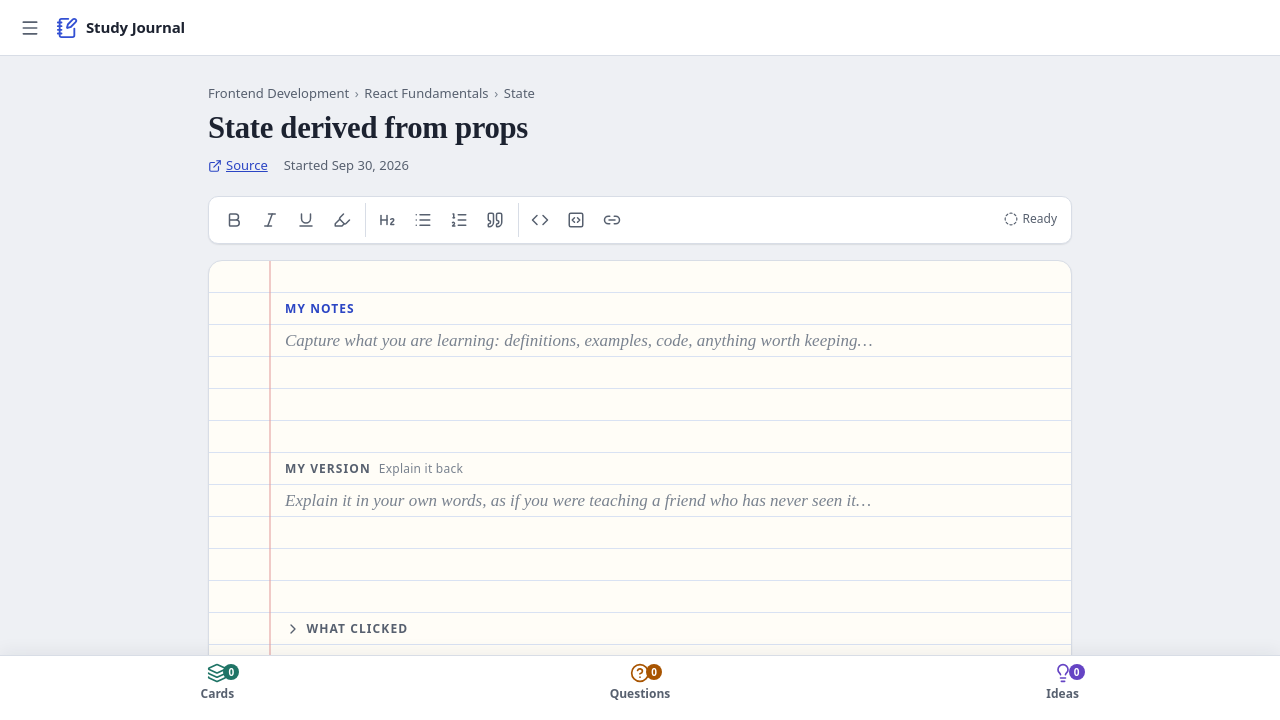
Test: JournalPage › moves study context behind a utility bar and sheet on a phone
Expected: the heading "State derived from props" is shown, [208,110,535,146]
Expected: the button named "Open course navigation" is shown, [10,8,50,48]
Click the button "Questions 0": (640, 688) [431,662,849,714]
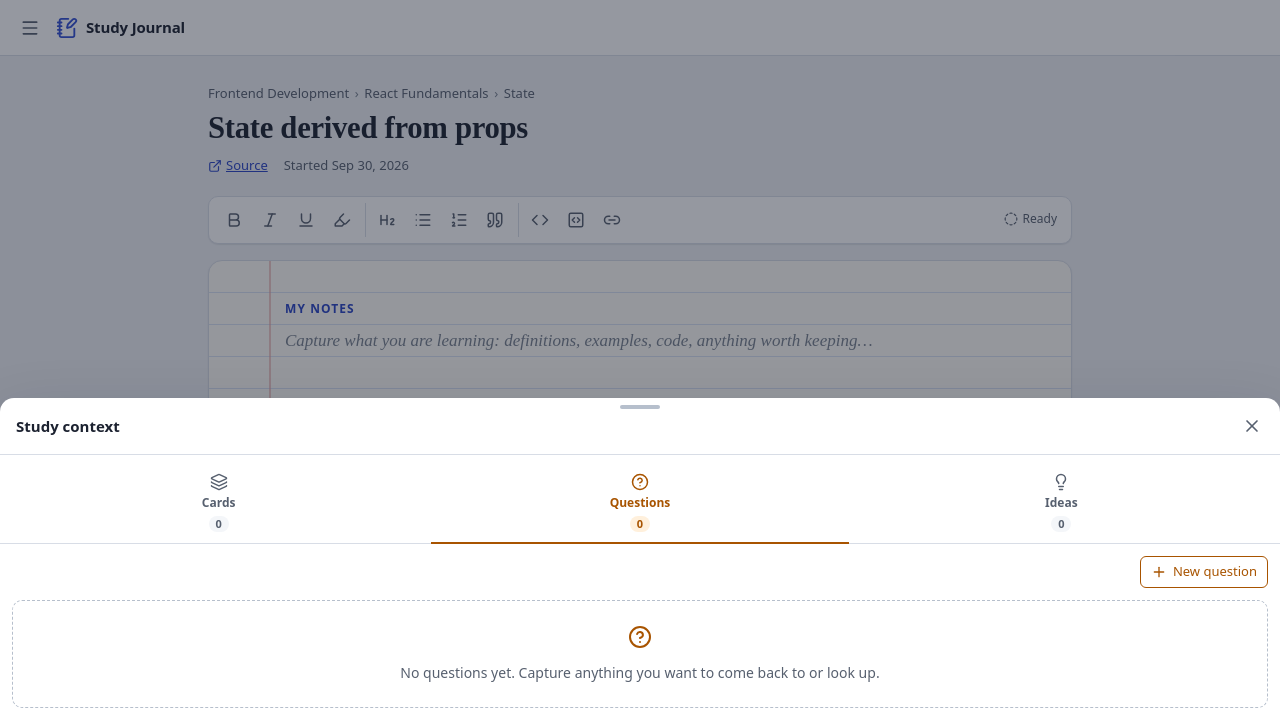
Click the button "New question": (1204, 572) [1140,556,1268,588]
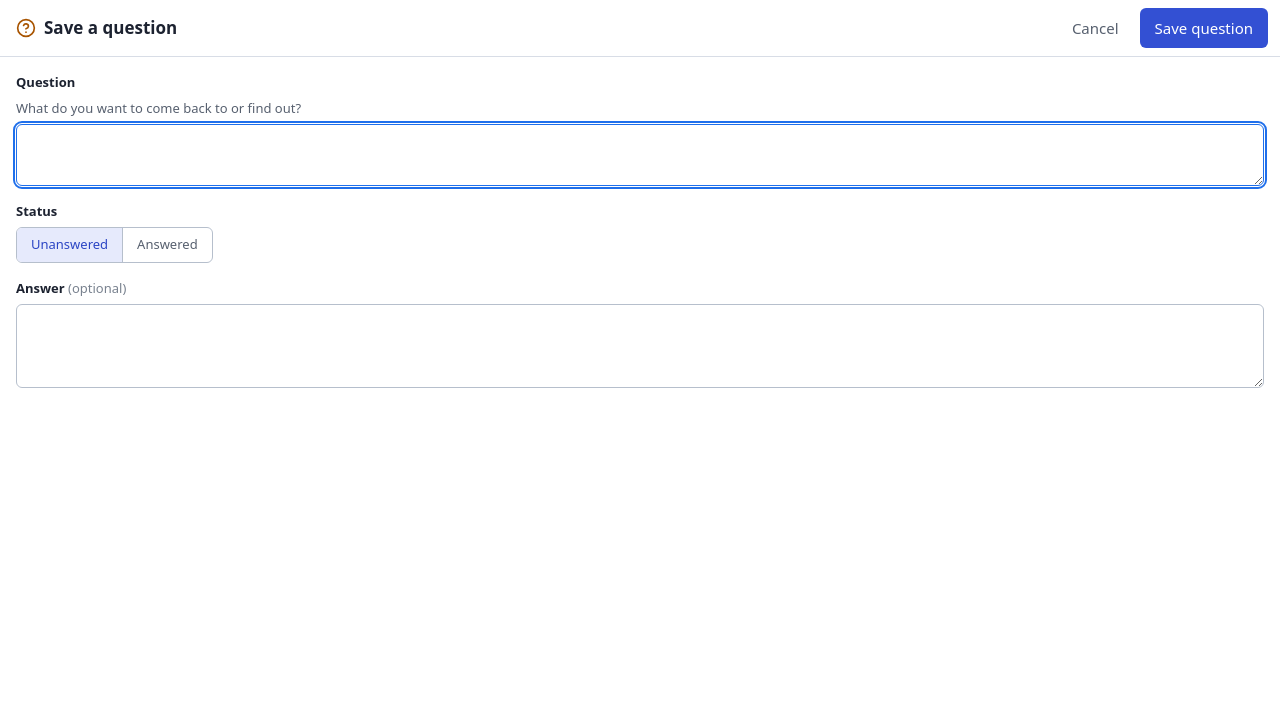
In the text box labelled "Question": (640, 155) [16,124,1264,186], type "Phone question"
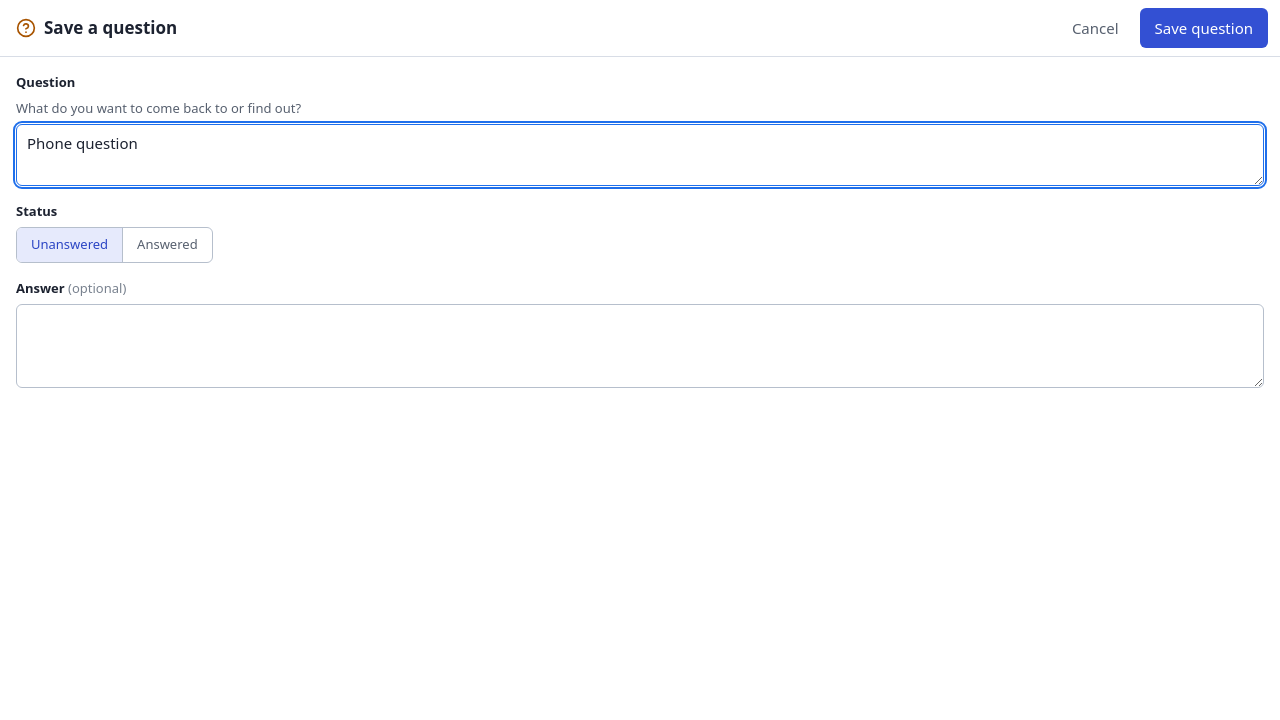
Click the button "Save question": (1204, 28) [1140,8,1268,48]
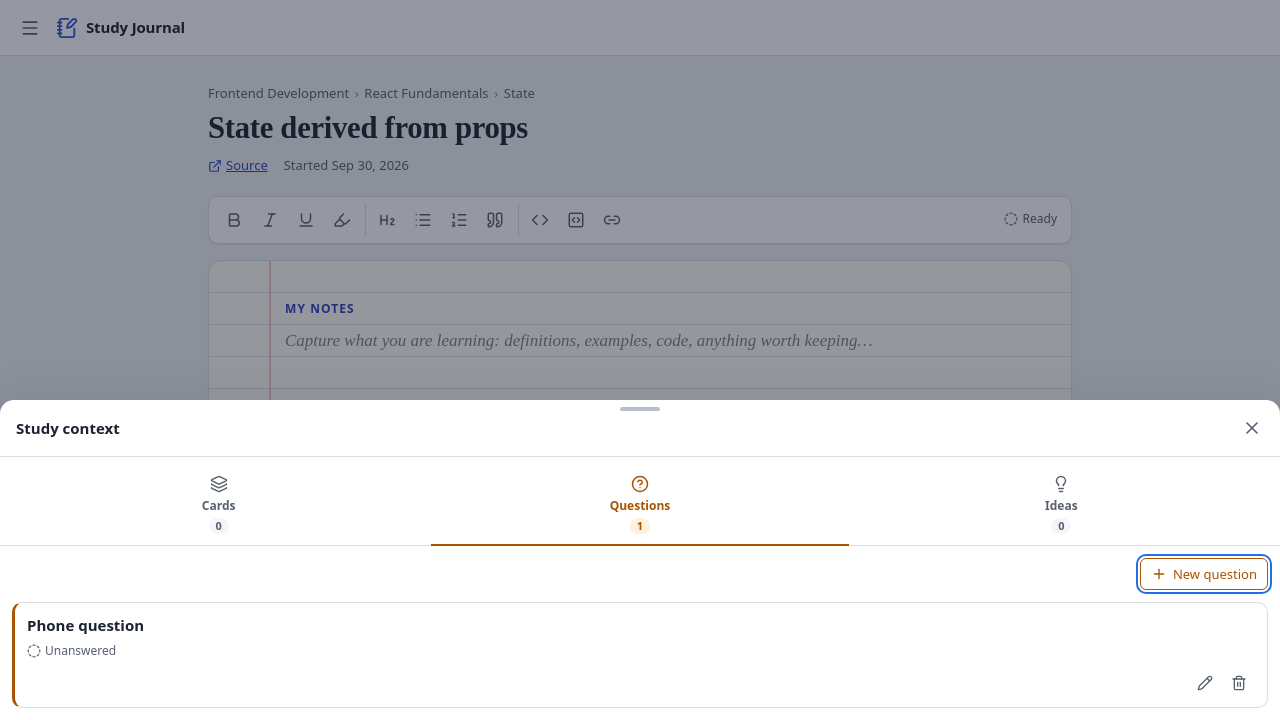
Expected: the heading "Save a question" is gone
Expected: the element named "question: Phone question" is shown, [12,602,1268,708]
Press Escape
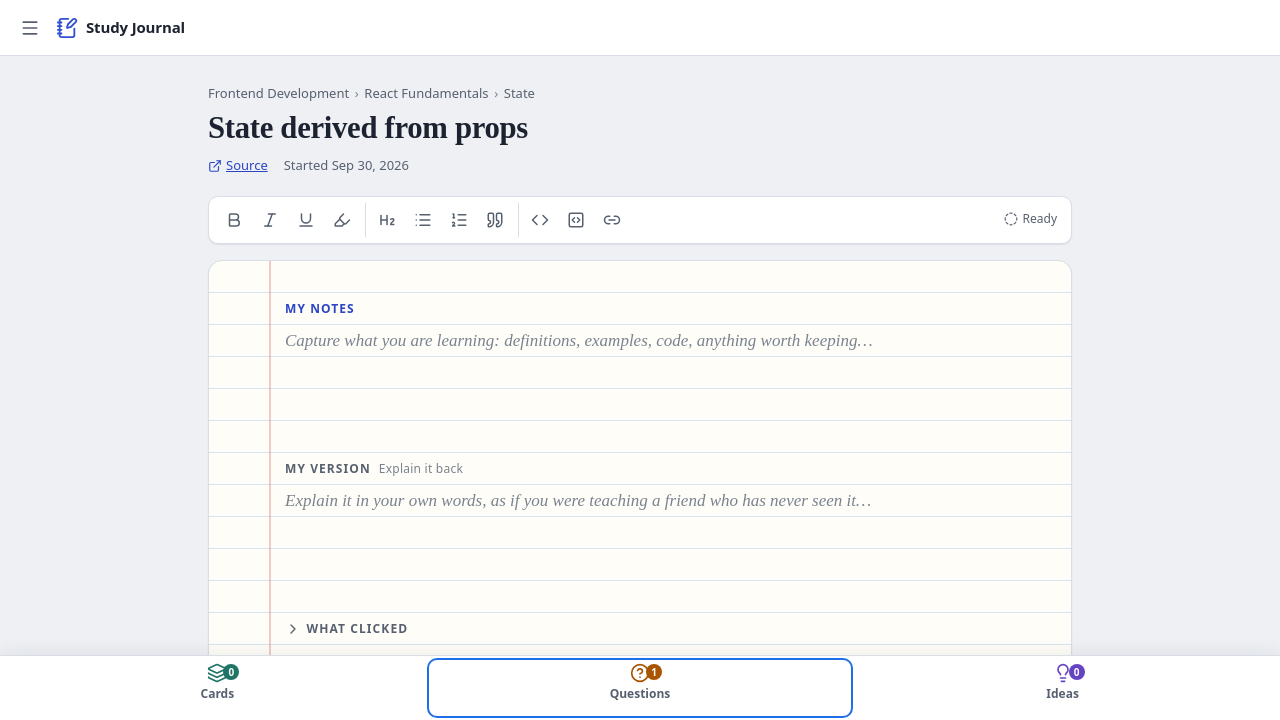
Expected: the button "Questions 1" is shown, [431,662,849,714]
Expected: the heading "Study context" is gone
